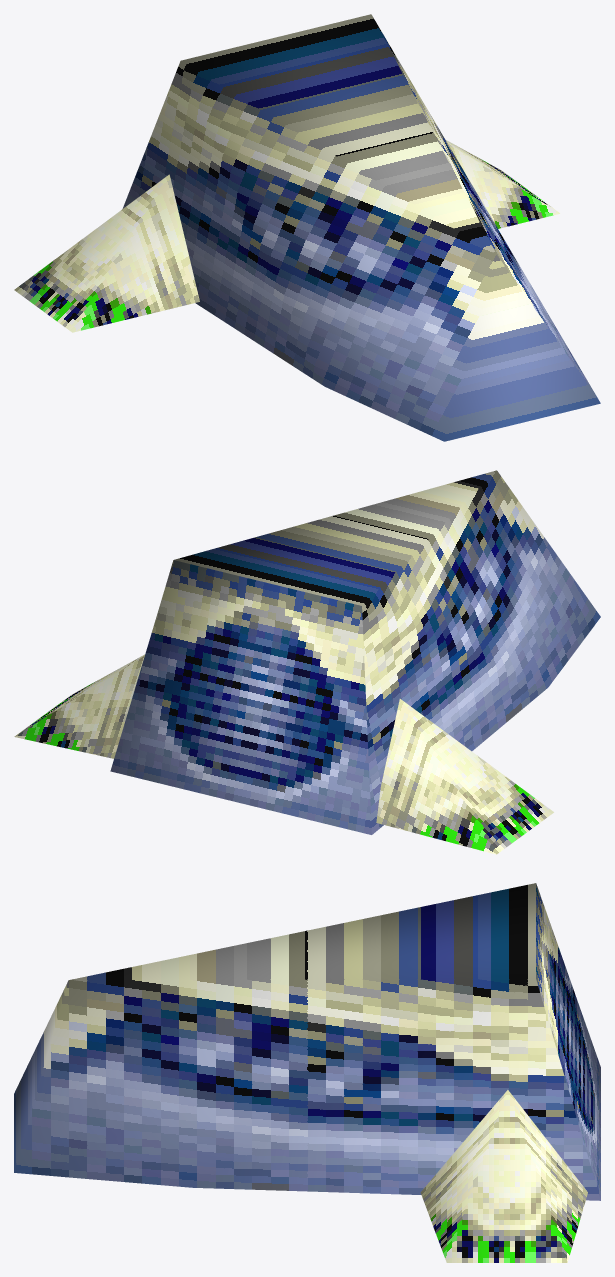
The model's file is MobileArtilleryZ_Anim.glb.
3 views of the same model, one above another, from view 1: azimuth 30°, elevation 25°; view 2: azimuth 150°, elevation 25°; view 3: azimuth 270°, elevation 25° (orthographic). The views are drawn at different scales.
Visible parts, largest first — view 1: MobileArtilleryZ_Anim_part00; view 2: MobileArtilleryZ_Anim_part00; view 3: MobileArtilleryZ_Anim_part00.
Part boxes in pixels (x1,y1,x2,y2): MobileArtilleryZ_Anim_part00: [14, 14, 600, 441]; MobileArtilleryZ_Anim_part00: [14, 470, 600, 854]; MobileArtilleryZ_Anim_part00: [14, 883, 600, 1262].
Size of the model in its own units: 11.14 by 4.44 by 11.23.
3 materials, 3 textured.
